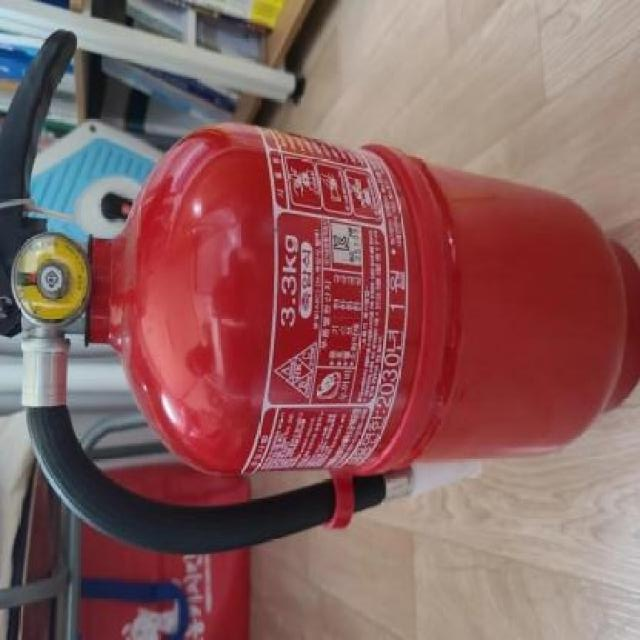fire extinguisher: (0, 28, 640, 557)
